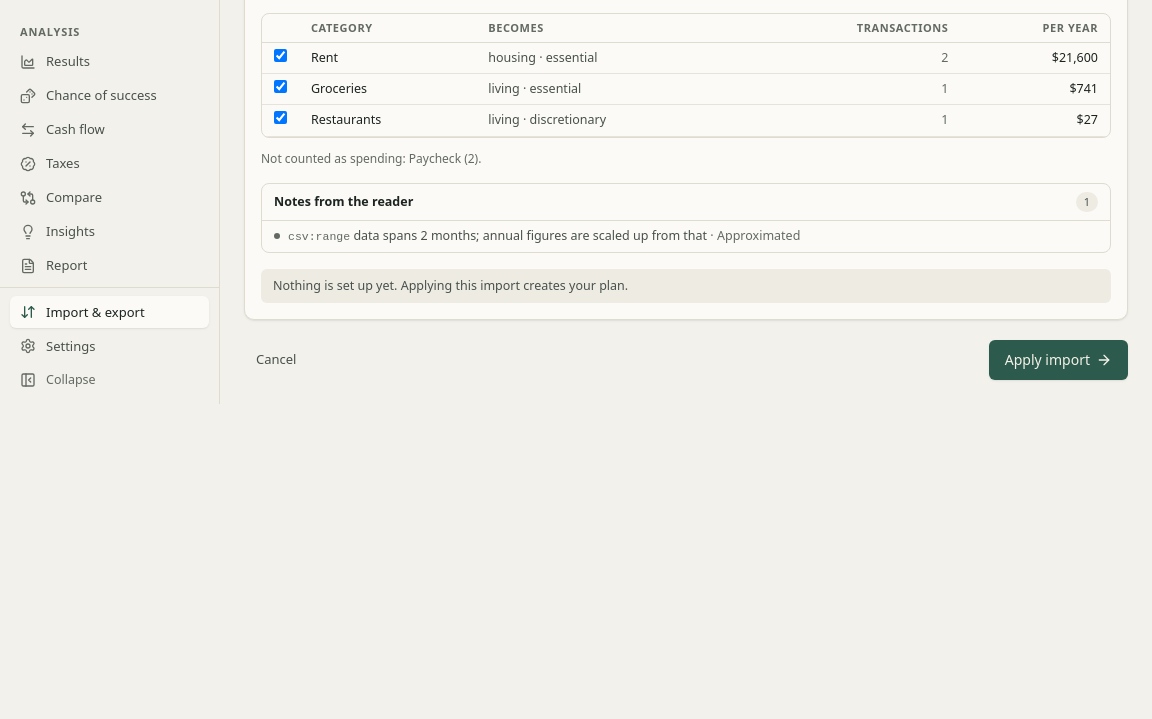
Test case: first import before a plan exists › applies a CSV by creating the plan, and does not save the sample
Earlier steps of the test are not shown.
(page scrolled)
Expected: the text "Applying this import creates your plan" is shown, [273, 277, 628, 294]
Click the button "Apply import": (1058, 360) [989, 340, 1128, 380]
(page scrolled)
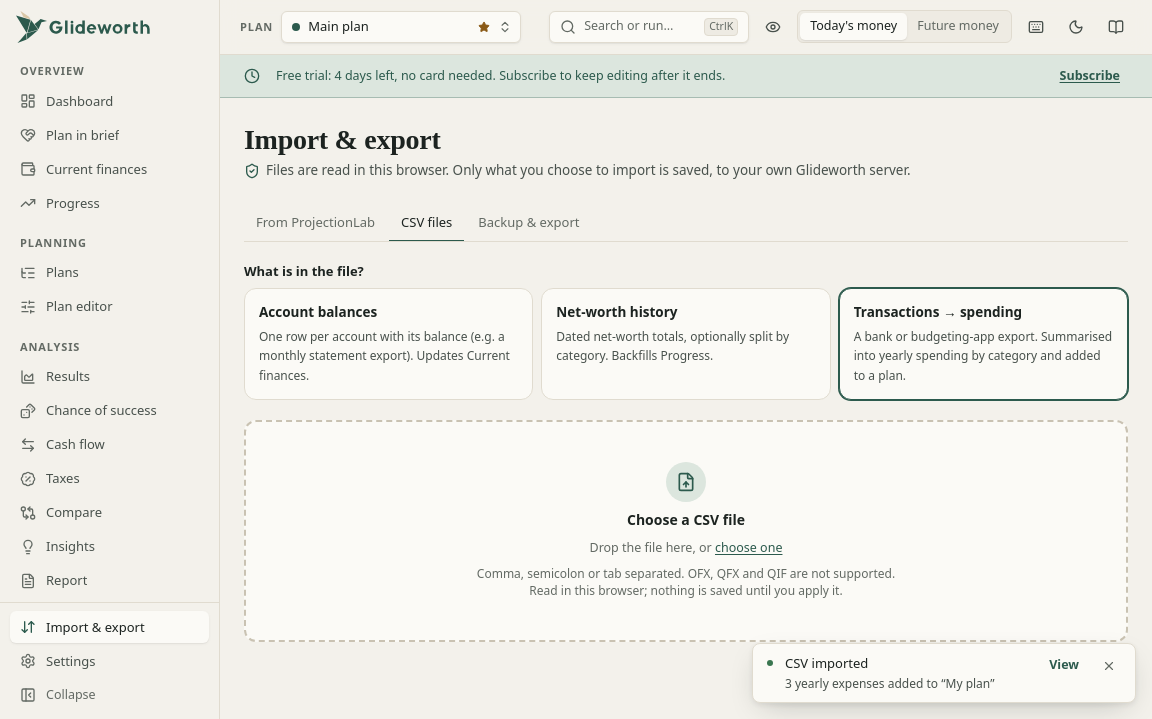
Now the text "CSV imported" is shown, box [785, 654, 868, 672]
